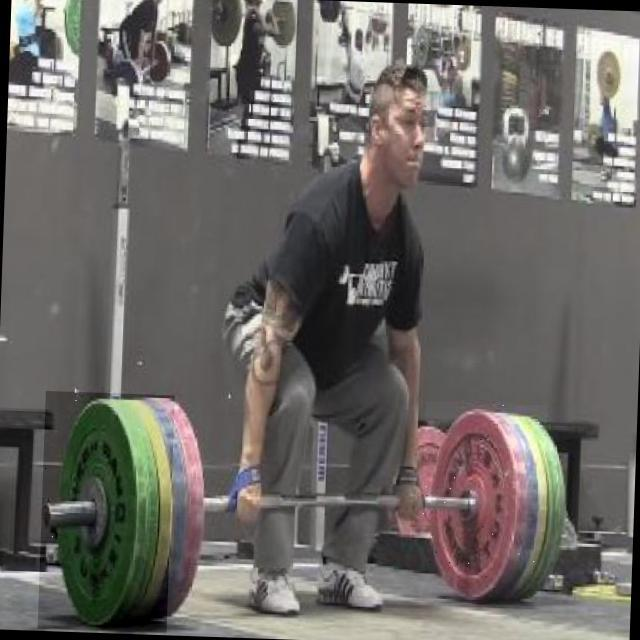barbell: (38, 392, 175, 634), (419, 402, 548, 609)
